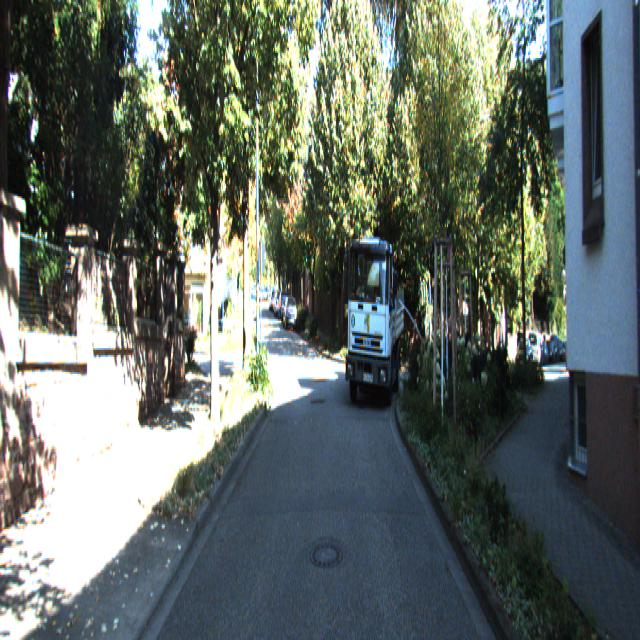Car: (345, 227, 407, 413), (284, 294, 298, 332)
